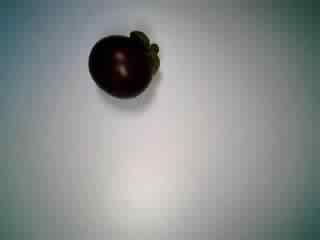mangosteen: (84, 25, 161, 100)
